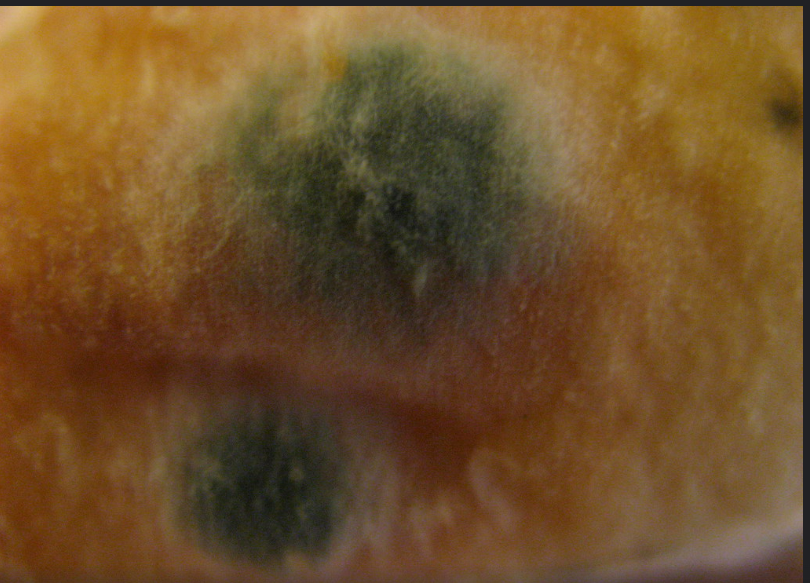mold_bread: (214, 52, 572, 329), (151, 392, 382, 571)
